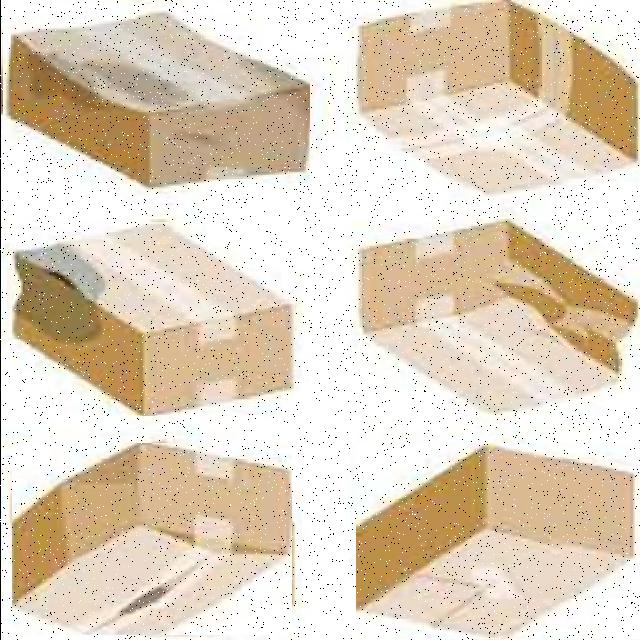defect: (2, 4, 309, 194), (360, 217, 640, 416), (11, 222, 294, 416), (11, 443, 291, 635)
normal: (329, 0, 640, 191), (355, 443, 640, 639)
